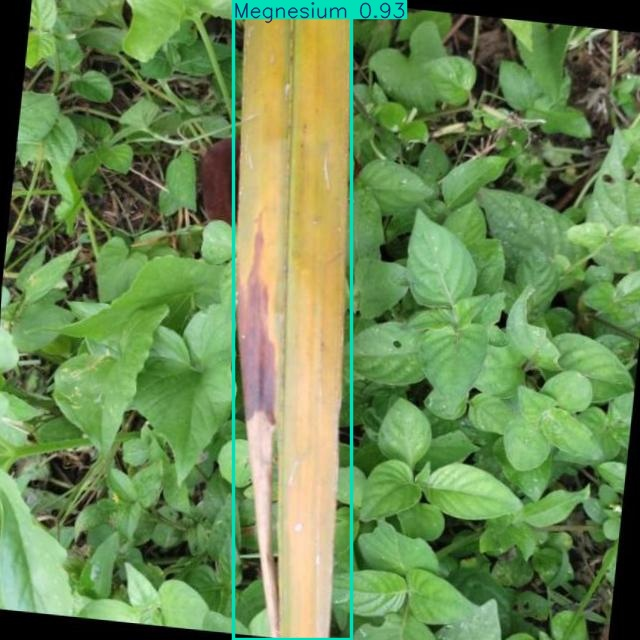Megnesium: (234, 0, 352, 640)
